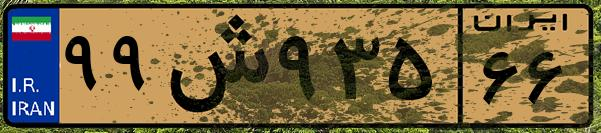3: (330, 28, 385, 110)
5: (385, 28, 445, 110)
6: (475, 38, 525, 113), (525, 38, 570, 115)
9: (270, 28, 330, 110), (57, 26, 110, 100), (110, 28, 158, 98)
ش: (158, 12, 270, 120)
